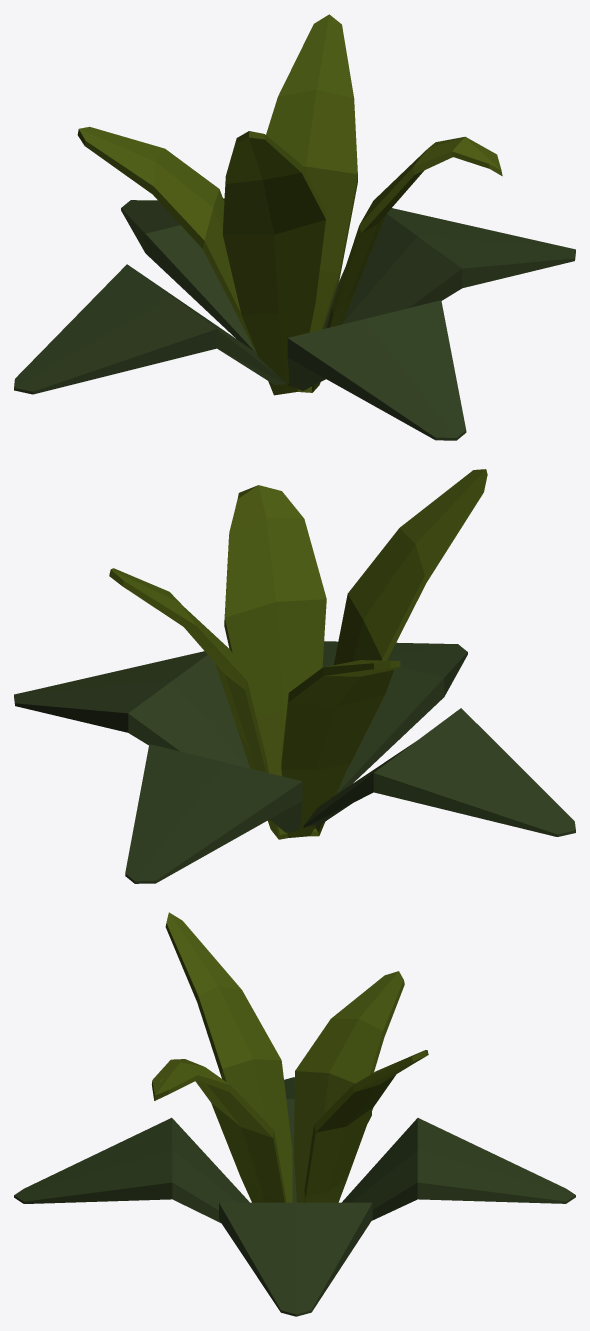
The model's file is HighBush.fbx.
The picture shows the model from 3 angles, top to bottom: view 1: azimuth 30°, elevation 25°; view 2: azimuth 150°, elevation 25°; view 3: azimuth 270°, elevation 25°; orthographic projection. The views are drawn at different scales.
Visible parts, largest first — view 1: Bush; view 2: Bush; view 3: Bush.
Part boxes in pixels (x1,y1,x2,y2): Bush: [14, 14, 575, 440]; Bush: [14, 469, 575, 883]; Bush: [14, 912, 575, 1316].
Size of the model in its own units: 51.93 by 29.98 by 51.94.
